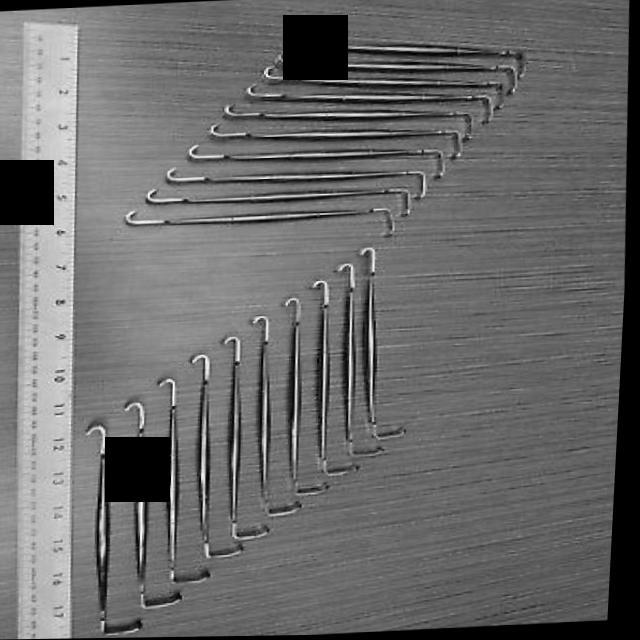Senn Retractor: (220, 75, 489, 176), (252, 54, 514, 148), (114, 179, 429, 257), (161, 132, 470, 203), (107, 394, 202, 616), (73, 414, 166, 639), (145, 374, 232, 604), (298, 275, 384, 500), (175, 345, 260, 570), (206, 330, 294, 545), (264, 44, 526, 116), (321, 256, 404, 480), (236, 310, 320, 530), (270, 292, 354, 505), (344, 248, 421, 452), (280, 22, 548, 72)
